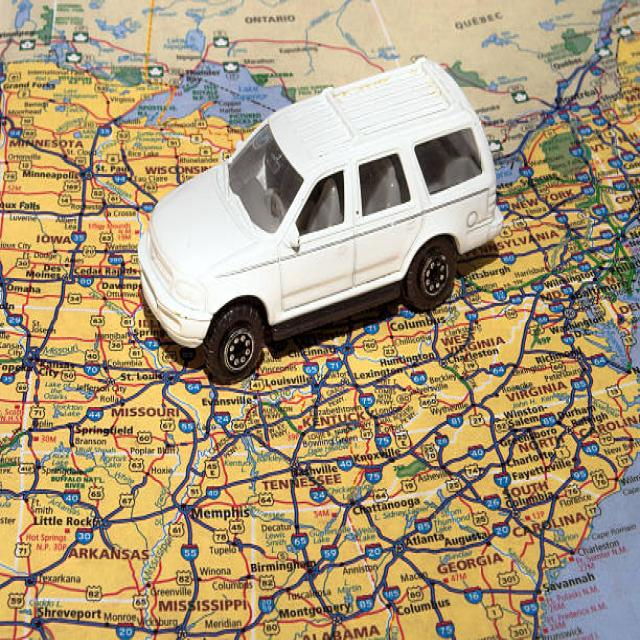Car: (137, 54, 503, 386)
